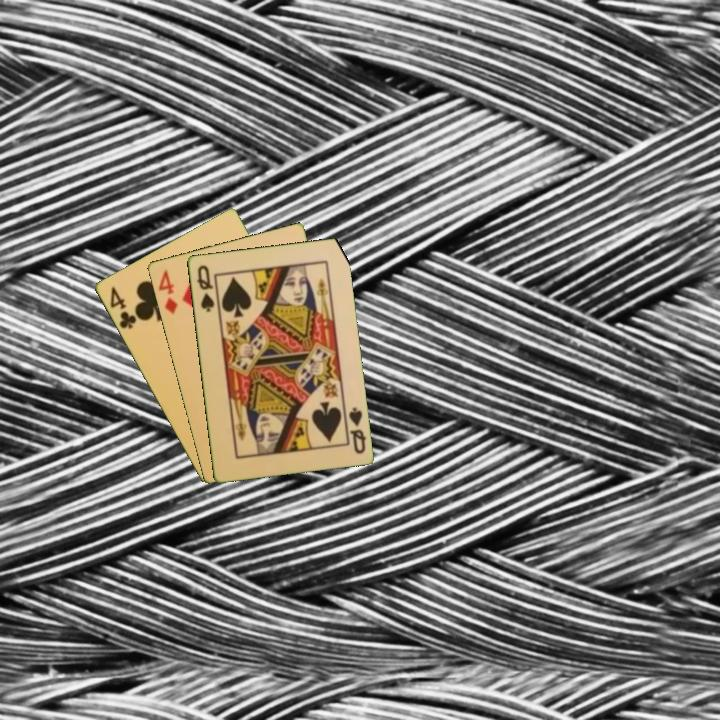4c: (106, 283, 139, 332)
4d: (154, 266, 180, 317)
Qs: (193, 261, 217, 315), (345, 403, 369, 457)
